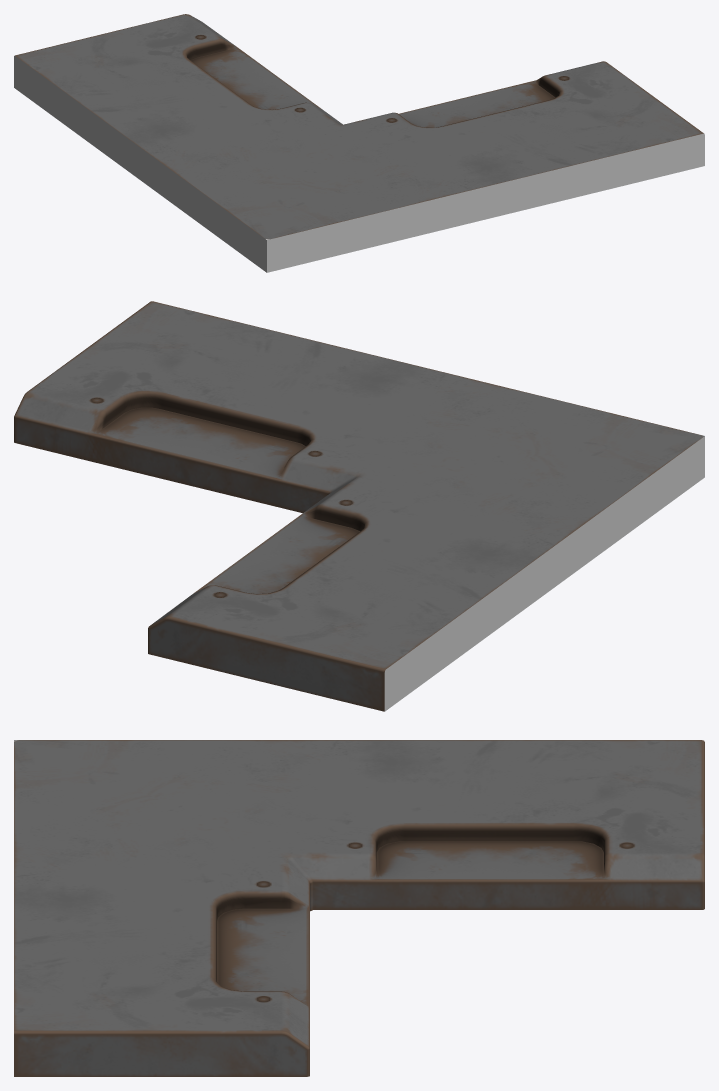
File: SM_RoomStyle_FloorCorner02.fbx
The picture shows the model from 3 angles, top to bottom: view 1: azimuth 30°, elevation 25°; view 2: azimuth 150°, elevation 25°; view 3: azimuth 270°, elevation 25°; orthographic projection. The views are drawn at different scales.
Parts seen in each view (by area): view 1: SM_RoomStyle_FloorCorner02_LOD0; view 2: SM_RoomStyle_FloorCorner02_LOD0; view 3: SM_RoomStyle_FloorCorner02_LOD0.
Boxes of the visible parts, x1,y1,x2,y2 form: SM_RoomStyle_FloorCorner02_LOD0: (14, 14, 704, 272); SM_RoomStyle_FloorCorner02_LOD0: (14, 301, 704, 711); SM_RoomStyle_FloorCorner02_LOD0: (14, 740, 704, 1076).
Size of the model in its own units: 140 by 140 by 10.03.
Materials: 2 (1 with a texture image).
